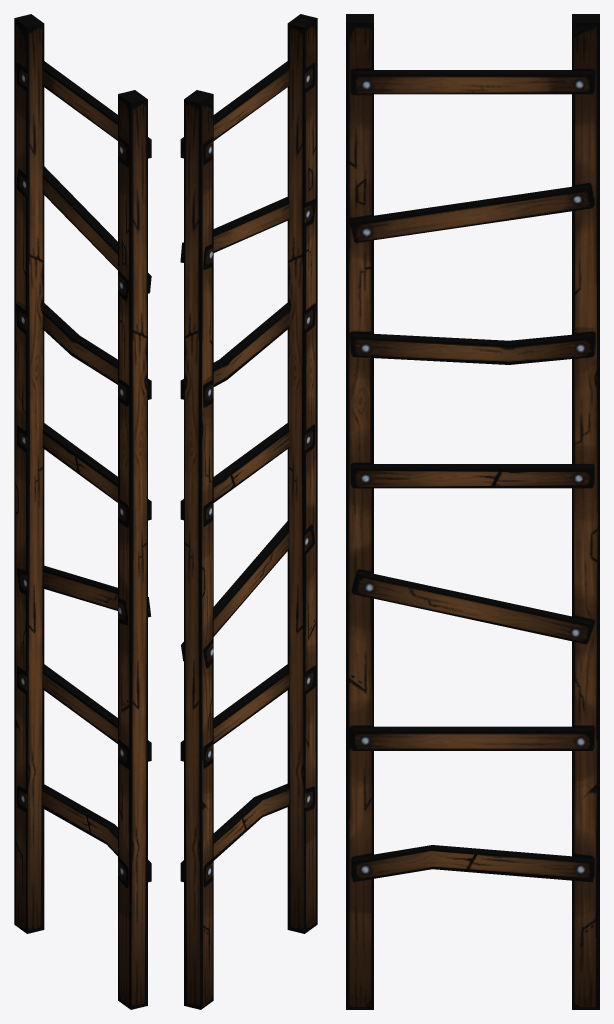
File: Ladder.fbx
3 renders of one model, left to right at view 1: azimuth 30°, elevation 25°; view 2: azimuth 150°, elevation 25°; view 3: azimuth 270°, elevation 25°, orthographic. The views are drawn at different scales.
Parts seen in each view (by area): view 1: Ladder; view 2: Ladder; view 3: Ladder.
Boxes of the visible parts, x1,y1,x2,y2 form: Ladder: (14,14,151,1009); Ladder: (180,14,317,1009); Ladder: (346,14,599,1009).
Bounding box in the file's own units: 40.95 × 1503 × 350.
